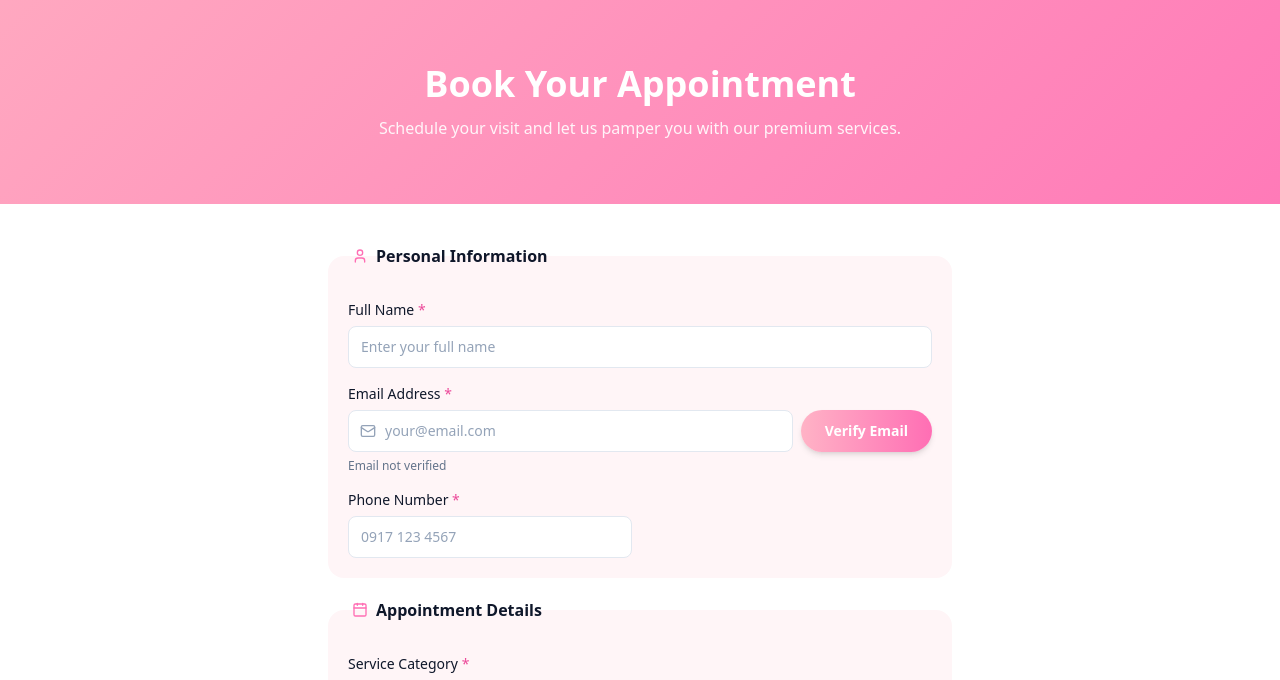
Test: requesting and entering the code › a wrong code shows the server message and stays unverified
In the field labelled "Email Address *": (570, 431) [348,410,793,452], type "jane@example.com"
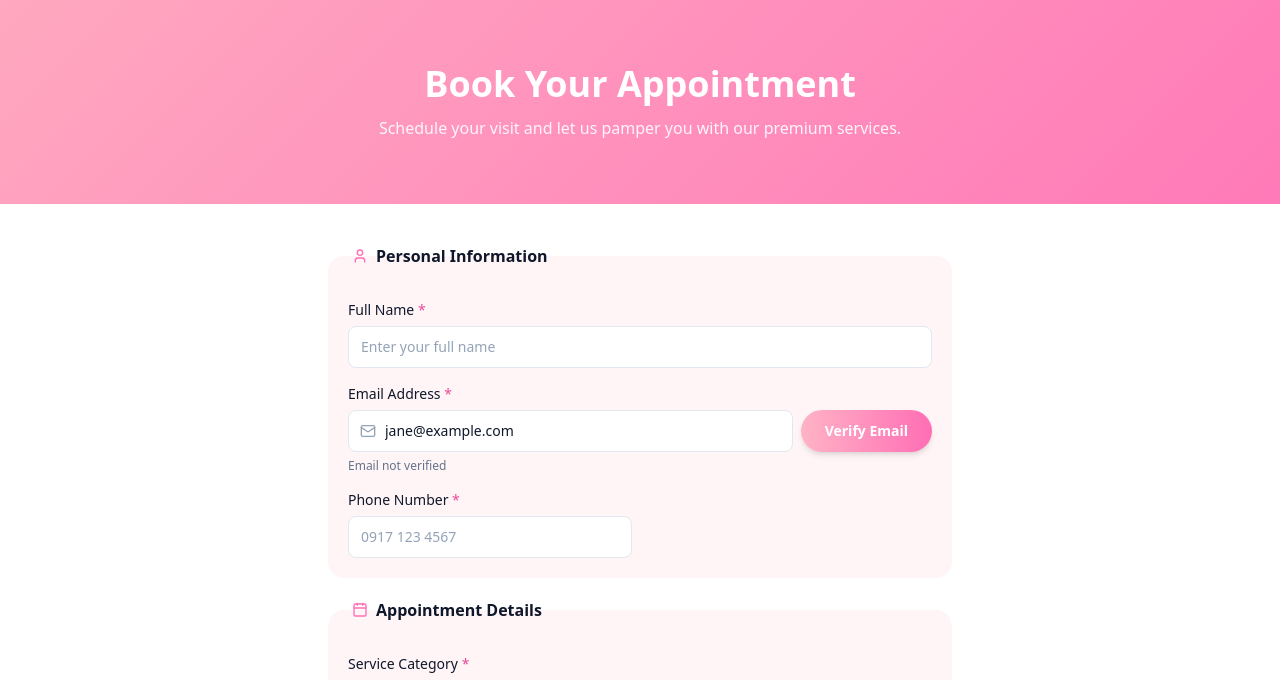
Click the button "Verify Email": (866, 431) [801,410,932,452]
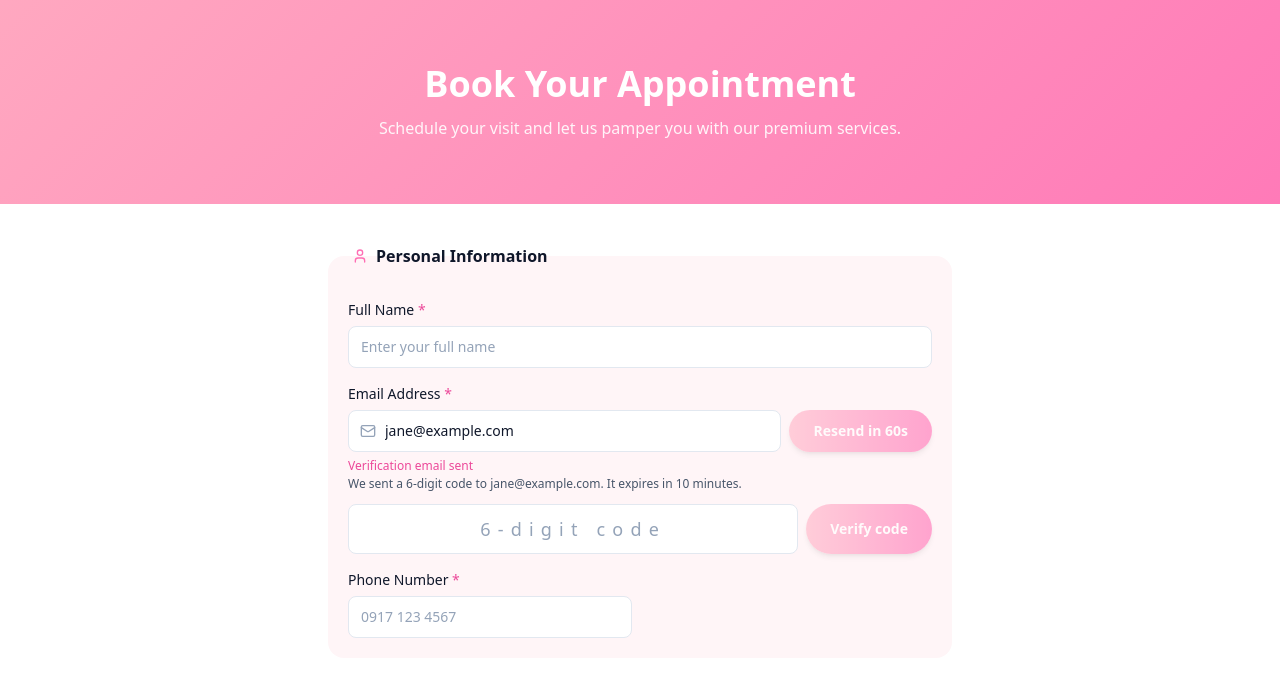
In the field named "6-digit verification code": (573, 529) [348,504,798,554], type "000000"
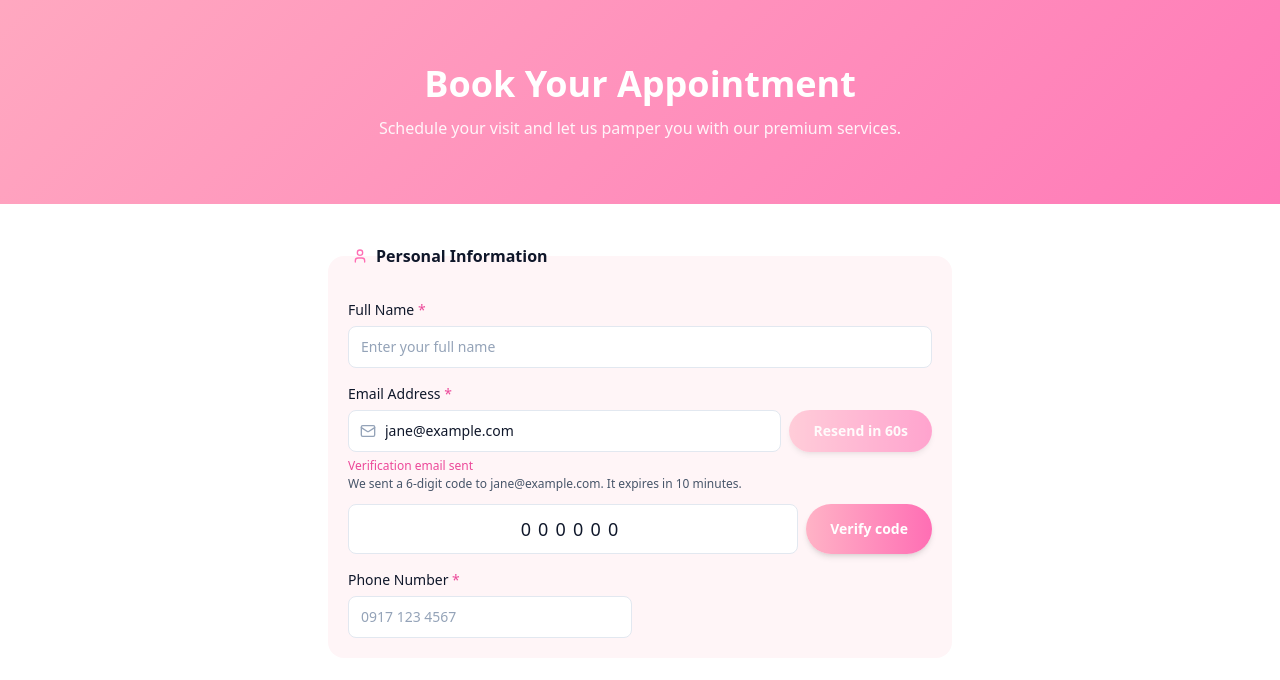
Click the button "Verify code": (869, 529) [806,504,932,554]
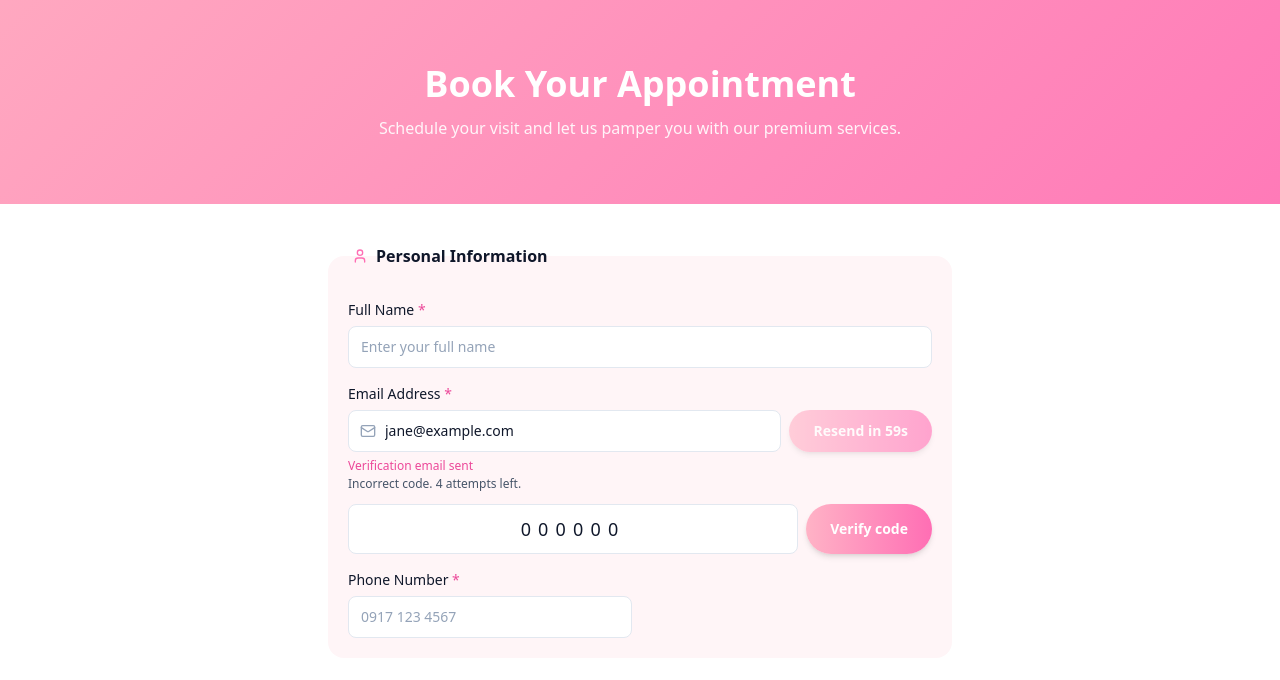
Check: the text "Incorrect code. 4 attempts left." is shown, box [348,475,521,492]
